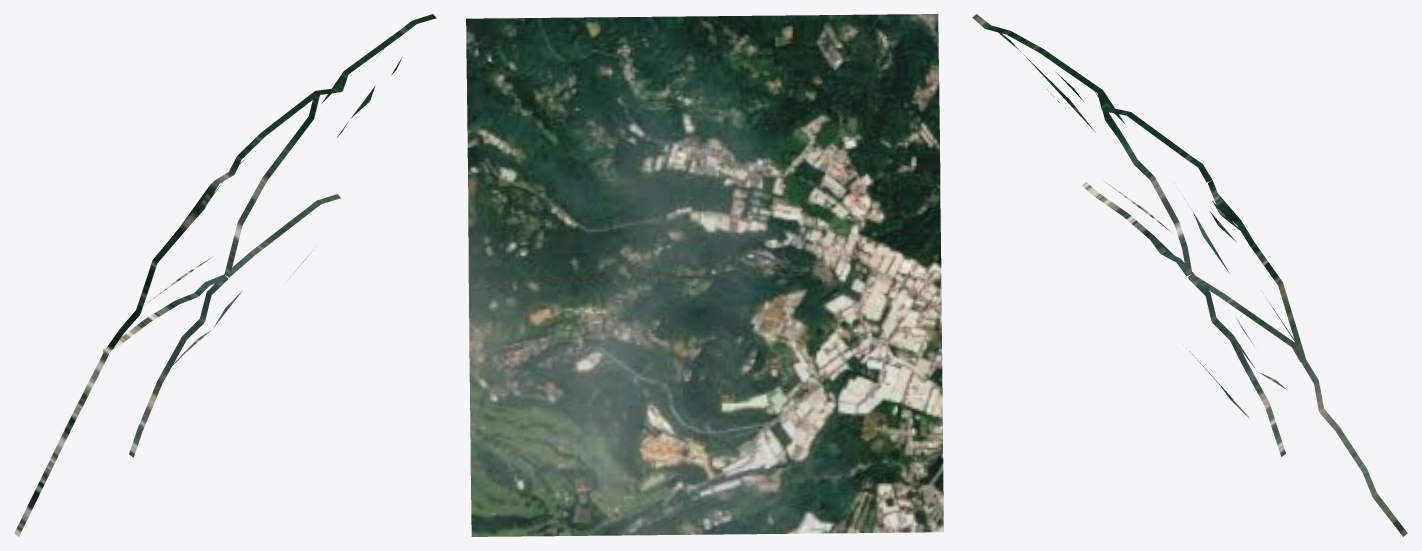
3 views of the same model, side by side, from view 1: azimuth 30°, elevation 25°; view 2: azimuth 150°, elevation 25°; view 3: azimuth 270°, elevation 25° (orthographic). The views are drawn at different scales.
Size of the model in its own units: 2497 by 2223 by 2120.
Materials: 1 (1 with a texture image).
